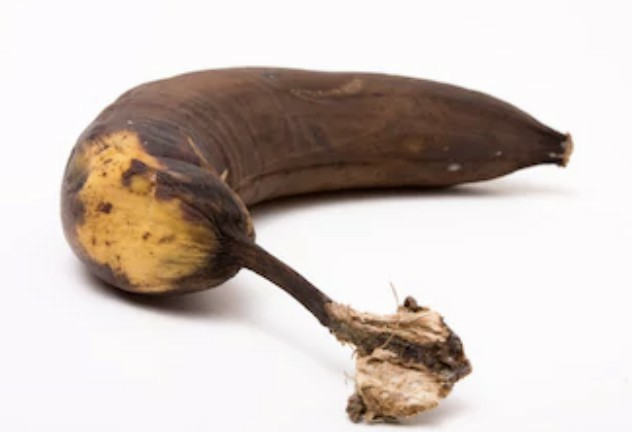rotten_banana: (63, 63, 574, 408)
